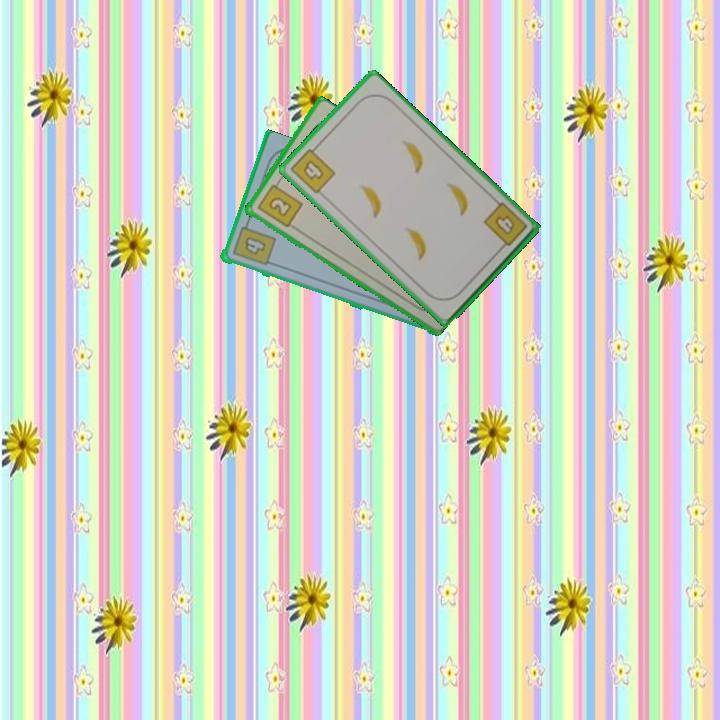2b: (253, 177, 305, 230)
4b: (286, 141, 338, 197), (479, 198, 530, 254), (228, 218, 278, 269)
